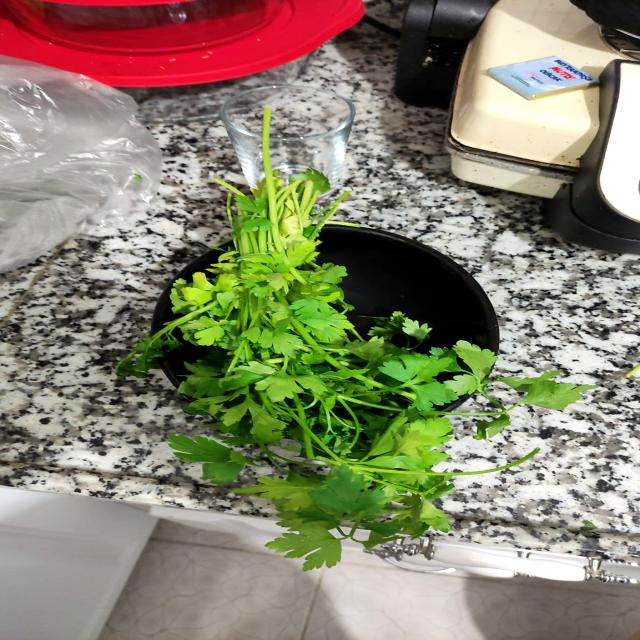parsley: (131, 98, 585, 572)
